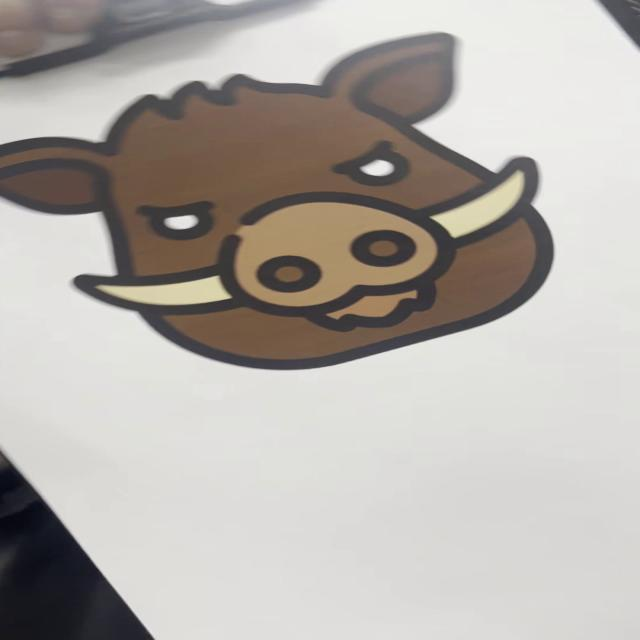animal: (1, 28, 601, 370)
